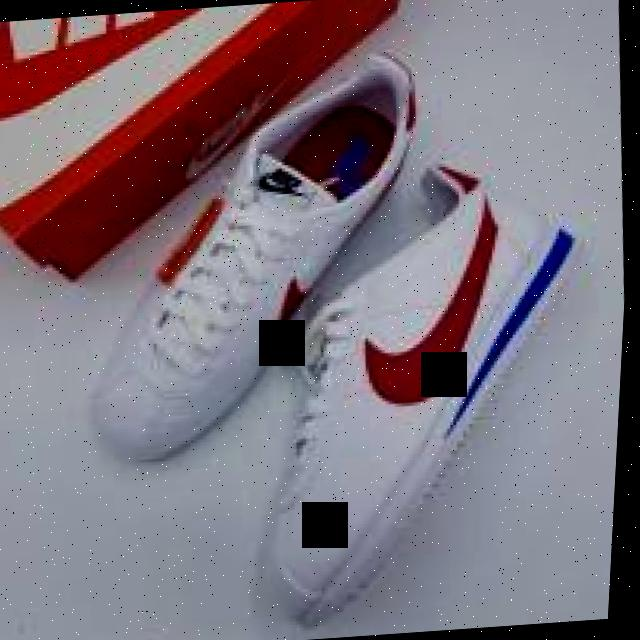shoes: (66, 38, 619, 640), (228, 156, 607, 630)
